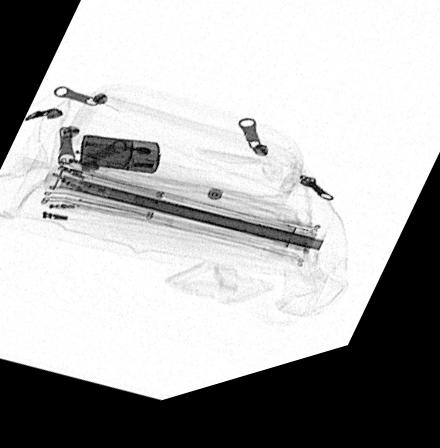Lighter: (75, 138, 161, 181)
